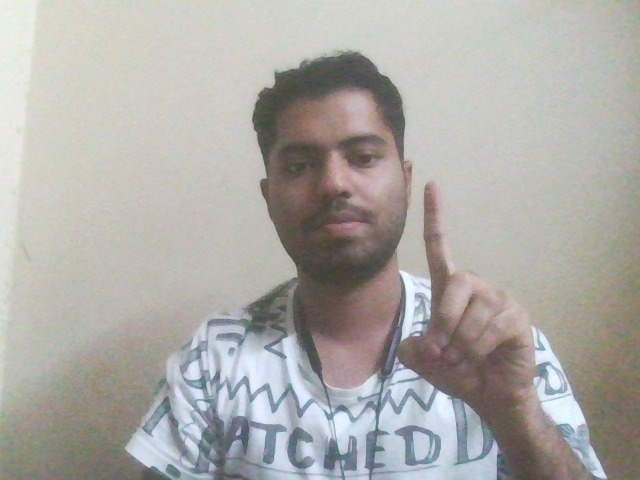D: (403, 173, 570, 400)
